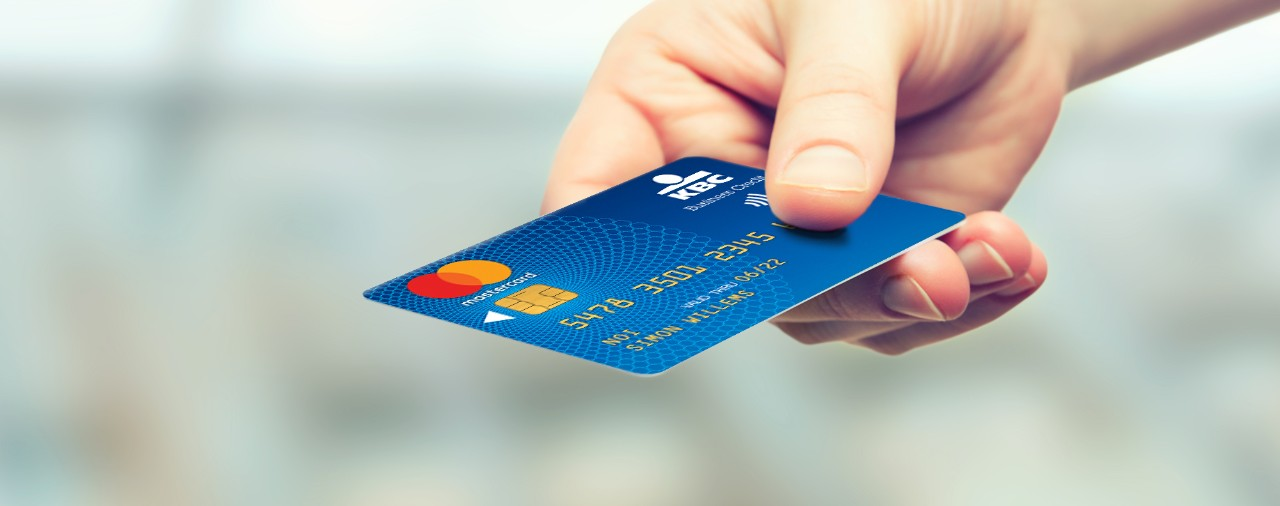tarjeta: (360, 151, 972, 381)
